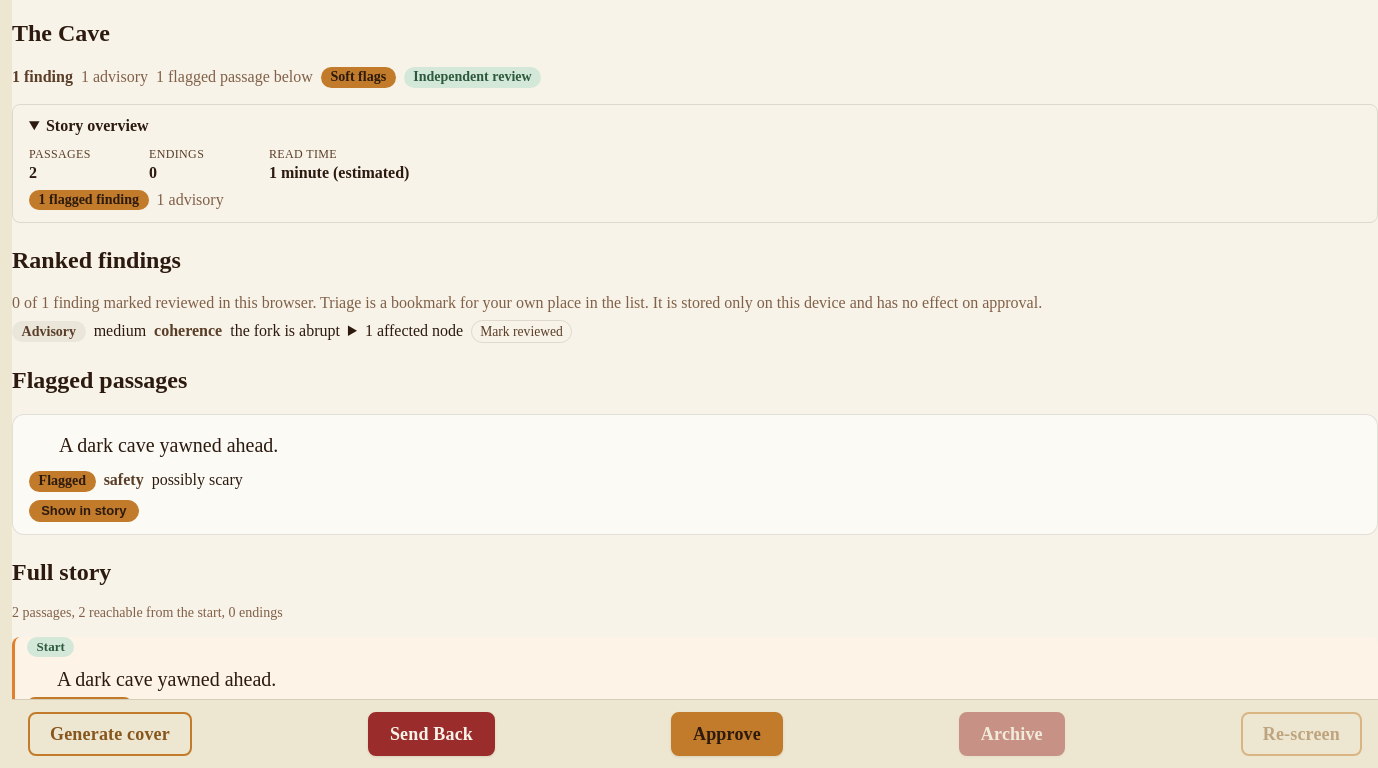
Test case: ReviewDetailPage › Stage B3 decision surfaces (design doc 2.6) › makes a ranked finding the entry point to its own affected passages
This screenshot has width=1378, height=768.
Expected: the heading "Ranked findings" is shown, [12,247,181,273]
Expected: the text "The path forked" is not shown
Click the heading "1 affected node" at x=406, y=331, box [348,322,463,340]
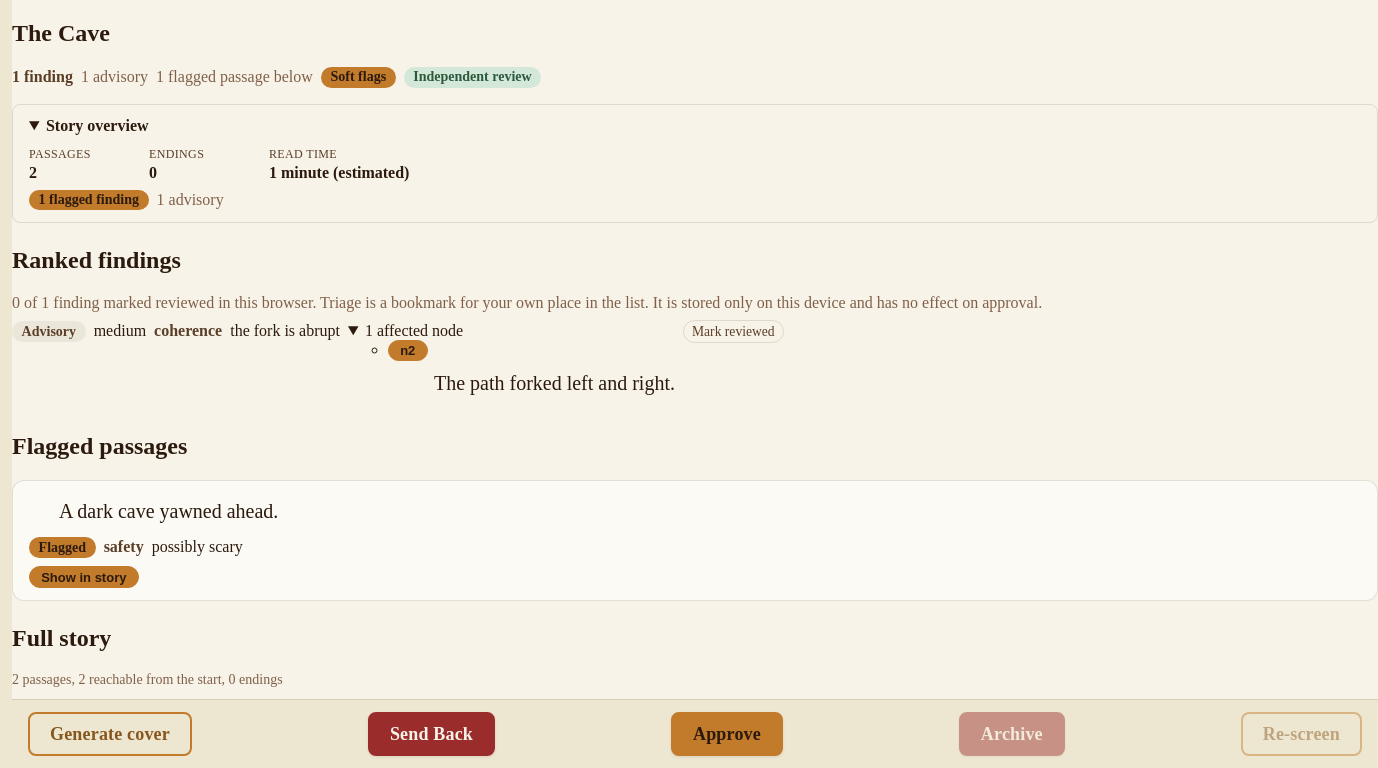
Expected: the text "The path forked left and right." is shown, [404,366,675,402]
